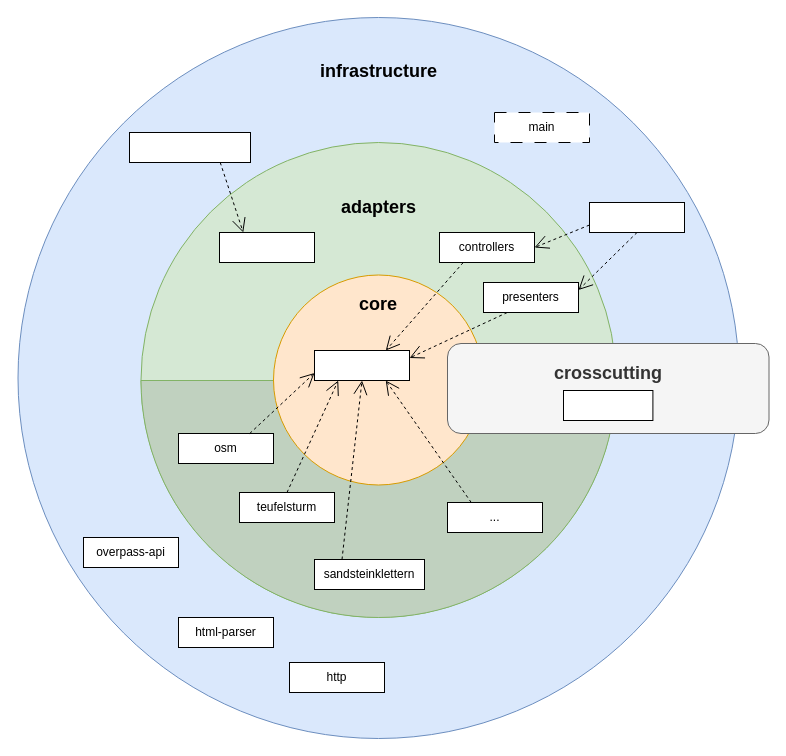
Some shapes in this 786 by 756 pixel diagram are drawn without their labels. The box of each missing label's shape, as (x1, y1, x2, y2) in pixels:
di: (562, 390, 653, 420)
filters: (140, 380, 616, 618)
pipes: (218, 232, 314, 262)
repositories.sqlite3: (128, 132, 250, 162)
ui: (588, 202, 684, 232)
usecases: (314, 350, 410, 380)
